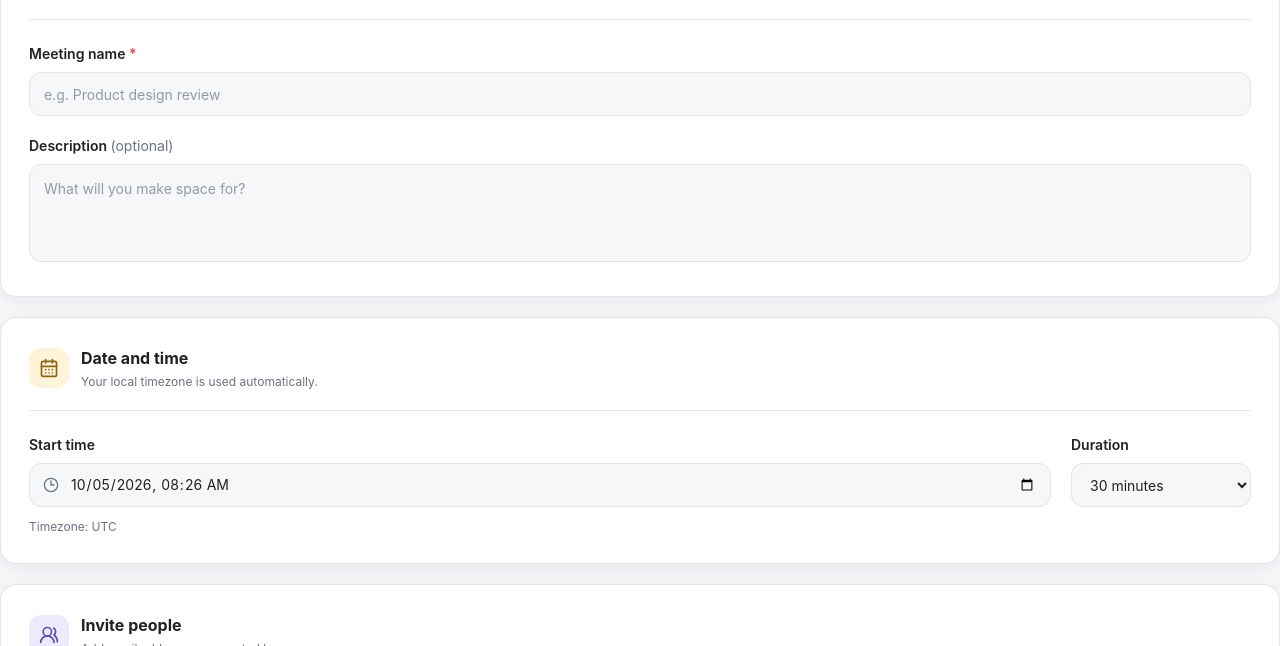
Test case: ScheduleForm › validates invite email addresses
This screenshot has width=1280, height=646.
In the field labelled "Meeting name *": (640, 94) [29,72,1251,116], type "Design review"
(page scrolled)
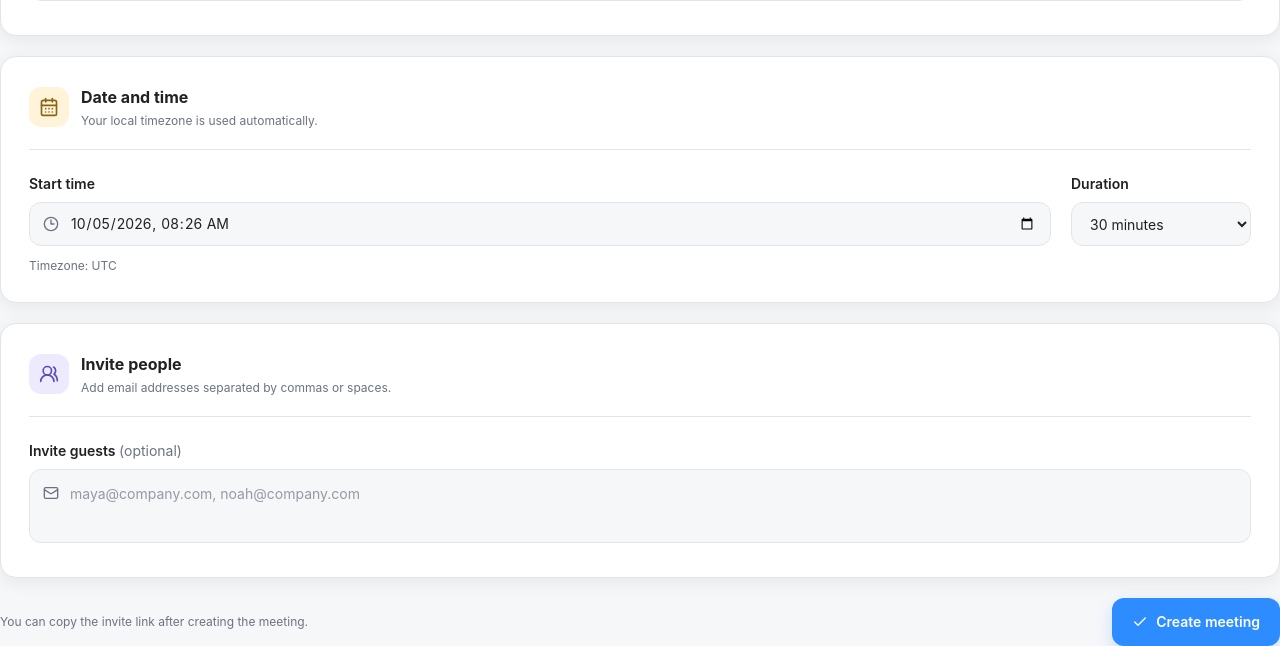
In the text box labelled "Invite guests (optional)": (640, 506) [29,469,1251,543], type "not-an-email"
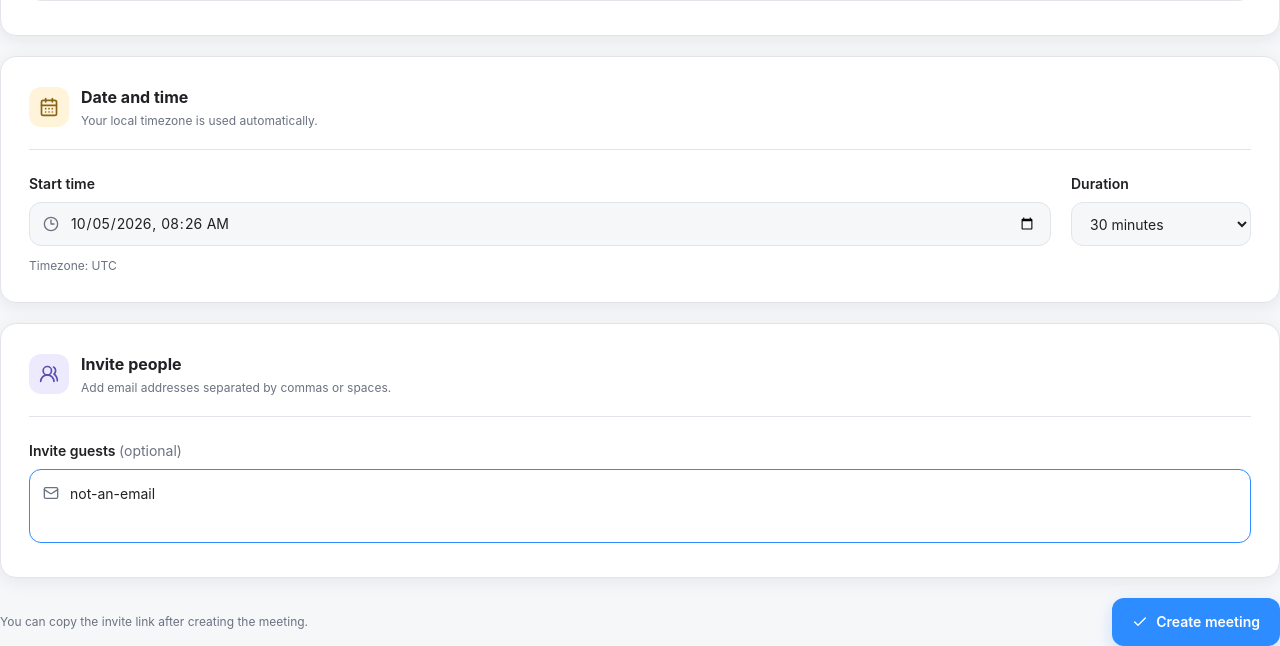
Click the button "Create meeting": (1196, 622) [1112,598,1279,645]
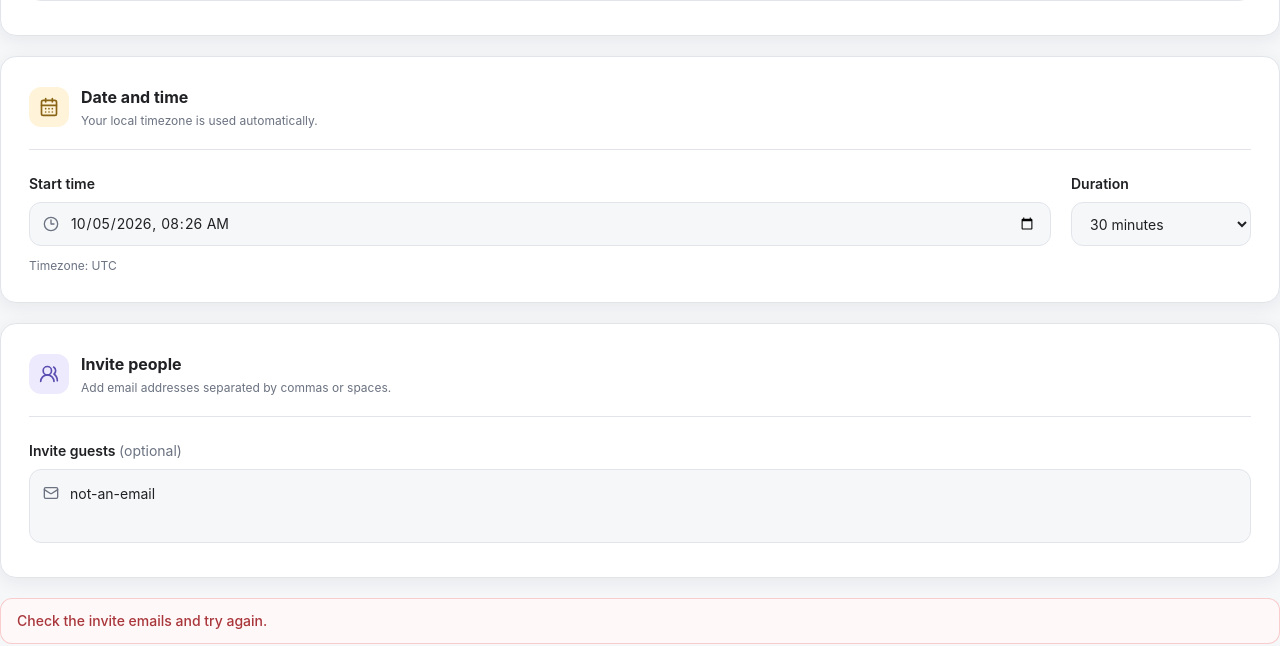
Now the message shows "Check the invite emails", box [17,612,267,629]
